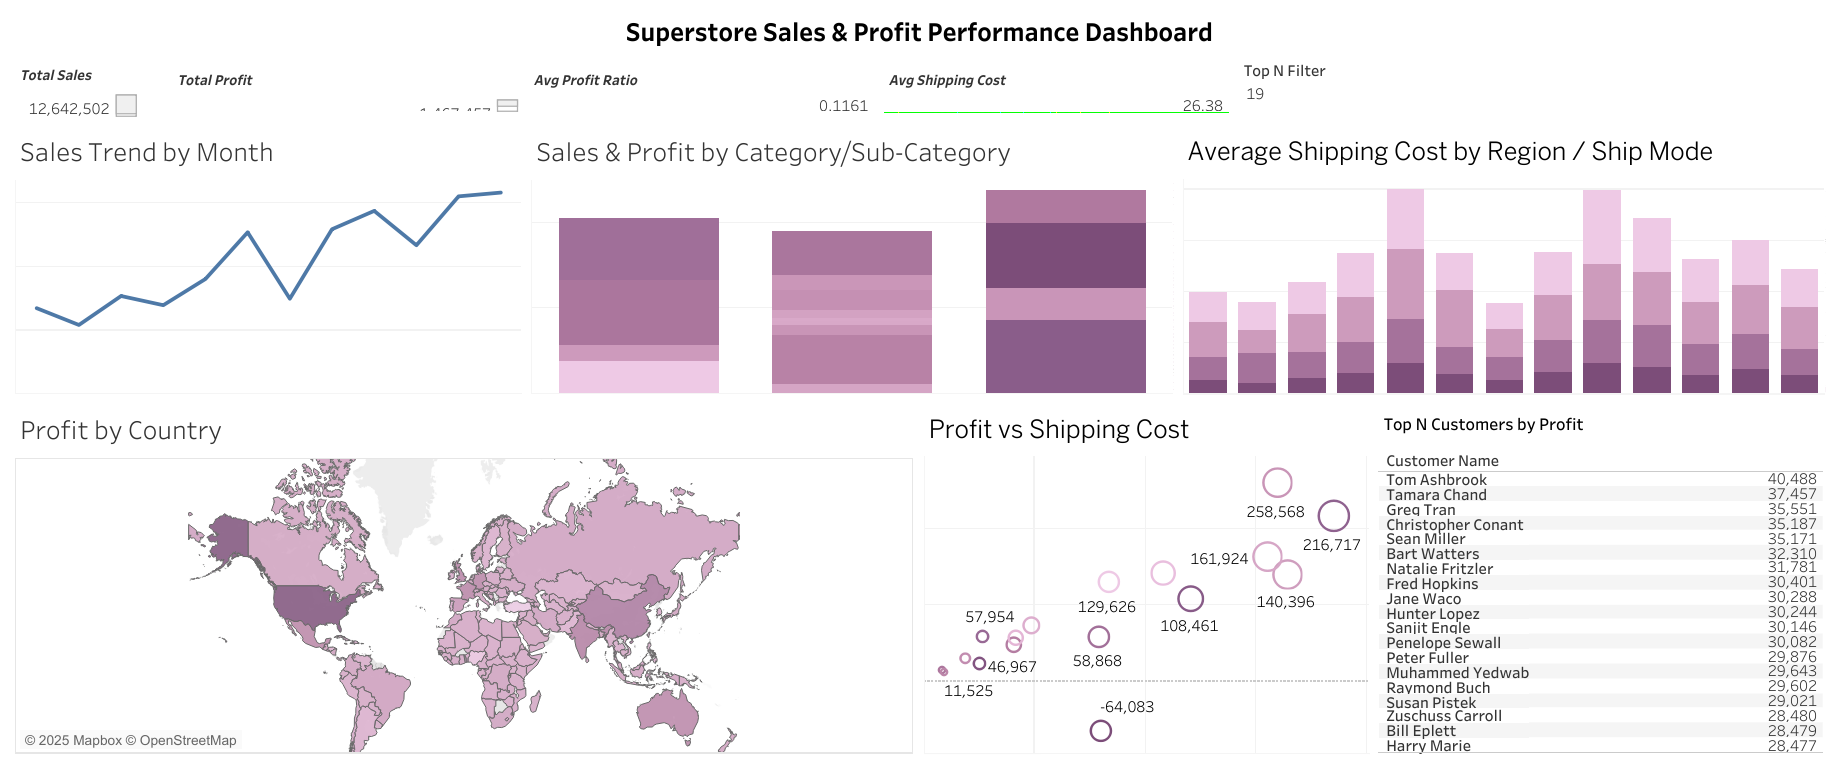

What the dashboard file says about the page in this screenshot:
{"tool":"tableau","page":{"name":"Dashboard 3","canvas":[1000,1000],"units":"permille","ordinal":0},"visuals":[{"type":"text","box":[4.7,10,990.6,56.4]},{"type":"worksheet","title":"Sheet 12","mark":"Automatic","box":[4.7,66.4,83.3,89.7]},{"type":"parameter","param":"[Parameters].[Parameter 3]","box":[673.8,66.4,321.5,69.9]},{"type":"worksheet","title":"Sheet 13","mark":"Automatic","box":[90.3,71.2,194.1,79.9]},{"type":"worksheet","title":"Sheet 14","mark":"Automatic","box":[284.4,71.2,193.5,79.9]},{"type":"worksheet","title":"Sheet 15","mark":"Automatic","box":[477.9,71.2,193.5,79.9]},{"type":"worksheet","title":"Sales Trend by Month","mark":"Line","rows":["Sales"],"cols":["Order Date"],"box":[4.7,156.1,281.1,362.2]},{"type":"worksheet","title":"Sales & Profit by Category/Sub-Category","mark":"Automatic","rows":["Sales"],"cols":["Category"],"box":[285.8,156.1,354.6,362.2]},{"type":"worksheet","title":"Average Shipping Cost by Region / Ship Mode","mark":"Automatic","rows":["Shipping Cost"],"cols":["Region"],"box":[640.4,156.1,354.9,362.2]},{"type":"worksheet","title":"Profit by Country","mark":"Multipolygon","box":[4.7,518.2,495.1,471.8]},{"type":"worksheet","title":"Profit vs Shipping Cost","mark":"Automatic","rows":["Profit"],"cols":["Shipping Cost"],"box":[499.8,518.2,247.7,471.8]},{"type":"worksheet","title":"Top N Customers by Profit ","mark":"Automatic","rows":["Customer Name"],"box":[747.5,518.2,247.8,471.8]}]}

Visuals, with their boxes on the dashboard's canvas, which has no fixed pixel size, in thousandths of its width and height (x1, y1, x2, y2). These are canvas units, not pixel positions in the 1838x768 screenshot, which may show the page scaled, cropped or inside an application window:
text: [x1=5, y1=10, x2=995, y2=66]
"Sheet 12" worksheet: [x1=5, y1=66, x2=88, y2=156]
parameter: [x1=674, y1=66, x2=995, y2=136]
"Sheet 13" worksheet: [x1=90, y1=71, x2=284, y2=151]
"Sheet 14" worksheet: [x1=284, y1=71, x2=478, y2=151]
"Sheet 15" worksheet: [x1=478, y1=71, x2=671, y2=151]
"Sales Trend by Month" worksheet (Line marks): [x1=5, y1=156, x2=286, y2=518]
"Sales & Profit by Category/Sub-Category" worksheet: [x1=286, y1=156, x2=640, y2=518]
"Average Shipping Cost by Region / Ship Mode" worksheet: [x1=640, y1=156, x2=995, y2=518]
"Profit by Country" worksheet (Multipolygon marks): [x1=5, y1=518, x2=500, y2=990]
"Profit vs Shipping Cost" worksheet: [x1=500, y1=518, x2=748, y2=990]
"Top N Customers by Profit " worksheet: [x1=748, y1=518, x2=995, y2=990]
